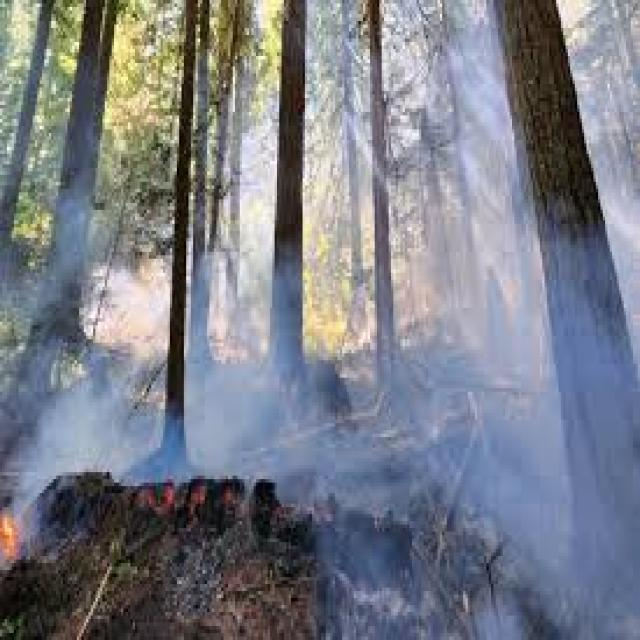Fire: (0, 459, 50, 587)
Smoke: (316, 294, 639, 632), (205, 276, 640, 437), (384, 348, 556, 620), (11, 243, 162, 462), (0, 350, 156, 510)
